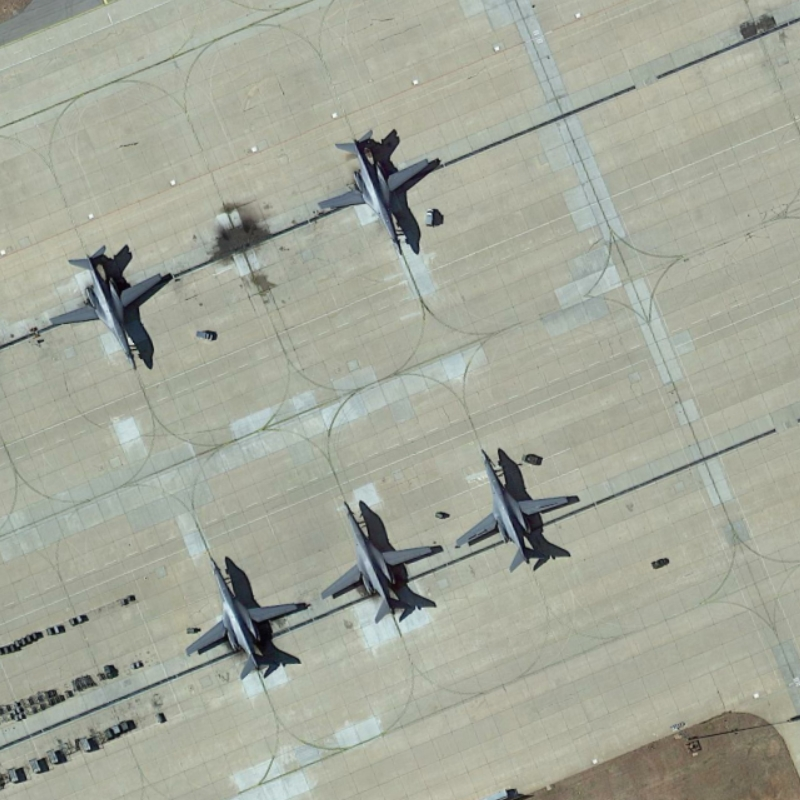A10: (43, 237, 199, 378), (315, 128, 460, 261), (180, 544, 313, 684), (449, 443, 586, 571), (320, 491, 441, 629)
